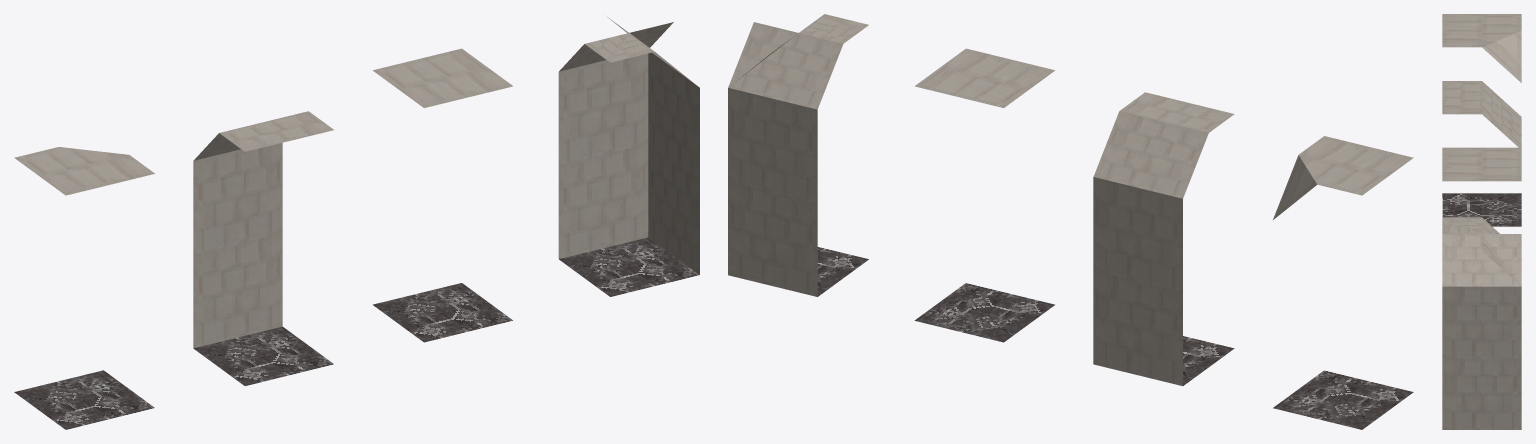
The picture shows the model from 3 angles, left to right: view 1: azimuth 30°, elevation 25°; view 2: azimuth 150°, elevation 25°; view 3: azimuth 270°, elevation 25°; orthographic projection. The views are drawn at different scales.
Visible parts, largest first — view 1: corner-col, wall-col, floor-col, corner-out-col; view 2: wall-col, corner-col, corner-out-col, floor-col; view 3: corner-col, corner-out-col, floor-col, wall-col.
Part boxes in pixels (x1=…): corner-col: x1=558, y1=17, x2=699, y2=296; wall-col: x1=193, y1=111, x2=333, y2=385; floor-col: x1=373, y1=48, x2=513, y2=342; corner-out-col: x1=14, y1=147, x2=154, y2=429; wall-col: x1=1093, y1=92, x2=1234, y2=385; corner-col: x1=728, y1=14, x2=868, y2=296; corner-out-col: x1=1273, y1=136, x2=1413, y2=429; floor-col: x1=914, y1=48, x2=1054, y2=342; corner-col: x1=1442, y1=217, x2=1521, y2=429; corner-out-col: x1=1442, y1=14, x2=1521, y2=226; floor-col: x1=1442, y1=147, x2=1521, y2=181; wall-col: x1=1442, y1=81, x2=1521, y2=147.
Size of the model in its own units: 7.08 by 2.5 by 1.
1 material, 1 textured.
